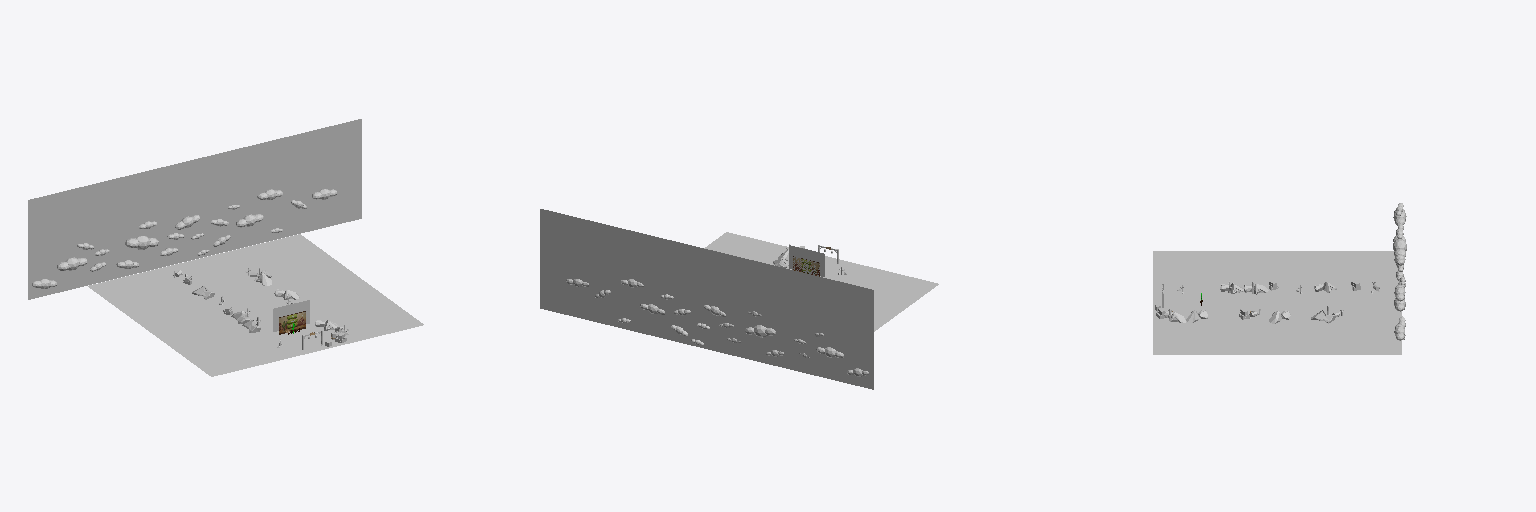
3 renders of one model, left to right at view 1: azimuth 30°, elevation 25°; view 2: azimuth 150°, elevation 25°; view 3: azimuth 270°, elevation 25°, orthographic.
Parts seen in each view (by area): view 1: Sky1_Cube, Plane1_Box_Box_0.001, Plane2_Box_Box_0.002; view 2: Sky1_Cube, Plane2_Box_Box_0.002, Plane1_Box_Box_0.001; view 3: Plane2_Box_Box_0.002, Plane1_Box_Box_0.001, Sky1_Cube.
Boxes of the visible parts, x1,y1,x2,y2 form: Sky1_Cube: [28, 119, 361, 299]; Plane1_Box_Box_0.001: [88, 234, 422, 376]; Plane2_Box_Box_0.002: [89, 234, 423, 376]; Sky1_Cube: [540, 209, 873, 389]; Plane2_Box_Box_0.002: [704, 232, 937, 330]; Plane1_Box_Box_0.001: [734, 237, 938, 331]; Plane2_Box_Box_0.002: [1153, 252, 1401, 354]; Plane1_Box_Box_0.001: [1153, 251, 1397, 354]; Sky1_Cube: [1393, 208, 1406, 340].
Size of the model in its own units: 215 by 63.6 by 142.
14 materials, 3 textured.